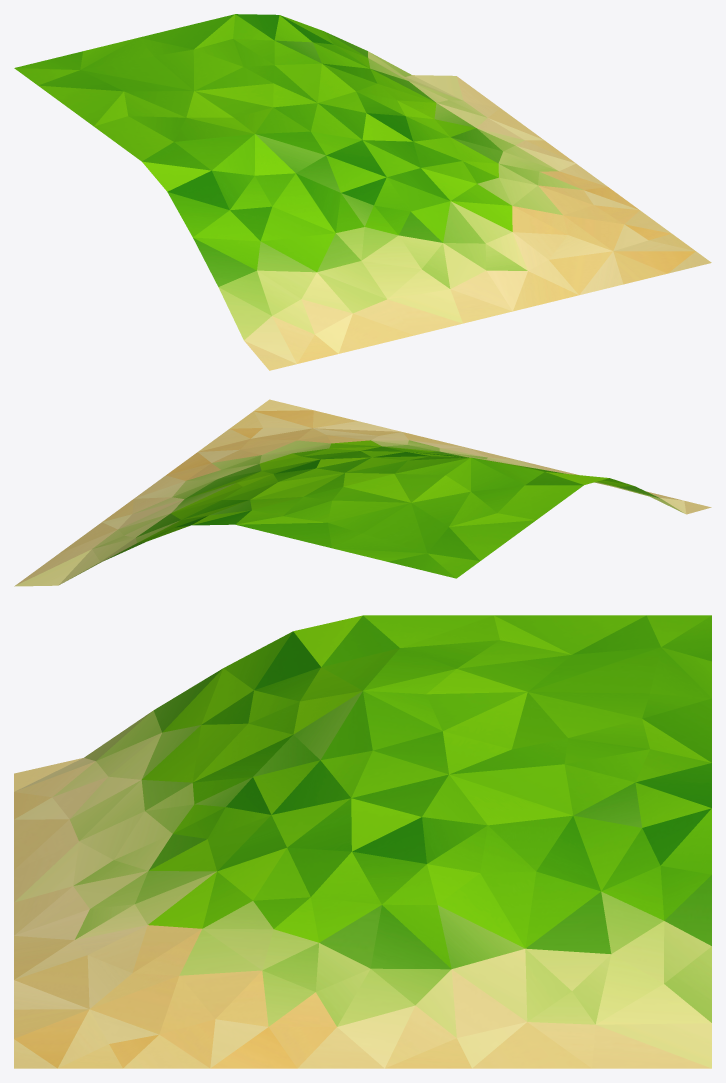
Rendered from GL-Terrain-part-04-LOD2.fbx.
3 views of the same model, one above another, from view 1: azimuth 30°, elevation 25°; view 2: azimuth 150°, elevation 25°; view 3: azimuth 270°, elevation 25° (orthographic). The views are drawn at different scales.
Visible parts, largest first — view 1: GL_Terrain_part_04; view 2: GL_Terrain_part_04; view 3: GL_Terrain_part_04.
Boxes of the visible parts, x1=… form: GL_Terrain_part_04: x1=14, y1=14, x2=711, y2=370; GL_Terrain_part_04: x1=14, y1=399, x2=711, y2=586; GL_Terrain_part_04: x1=14, y1=615, x2=711, y2=1068.
Bounding box in the file's own units: 12 × 3 × 12.
